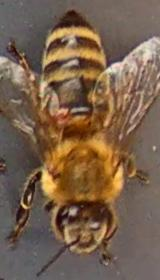varroa_mite: (45, 97, 75, 126)
